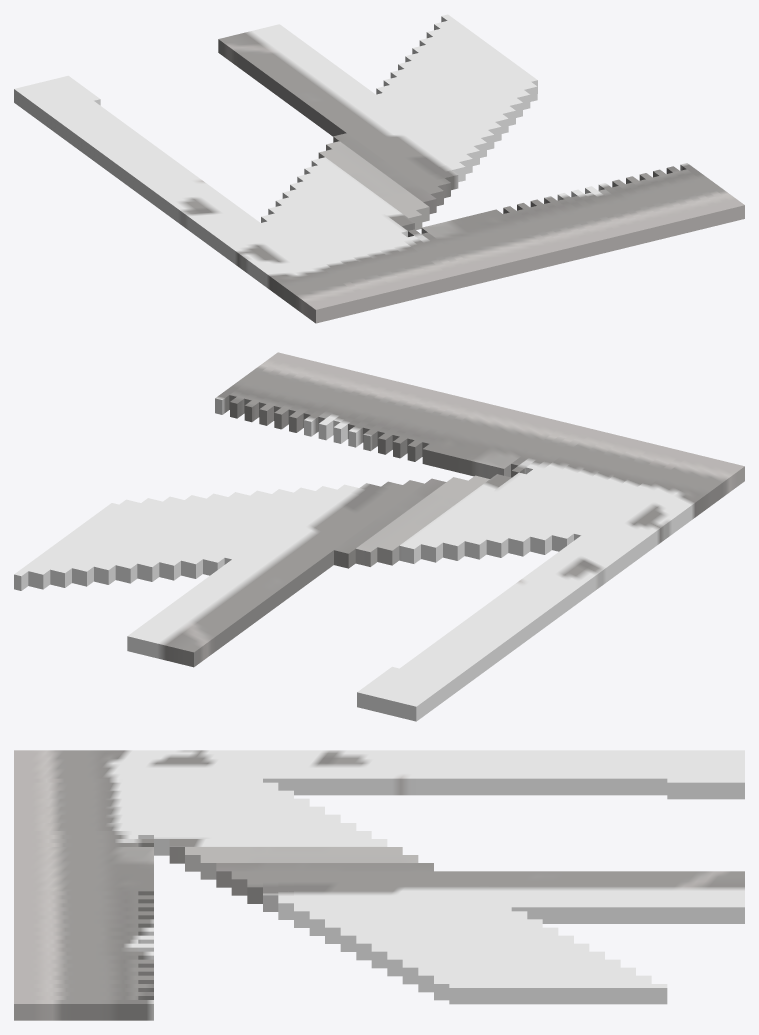
The model's file is rail.obj.
The picture shows the model from 3 angles, top to bottom: view 1: azimuth 30°, elevation 25°; view 2: azimuth 150°, elevation 25°; view 3: azimuth 270°, elevation 25°; orthographic projection. The views are drawn at different scales.
Size of the model in its own units: 0.9844 by 0.03 by 1.2.
